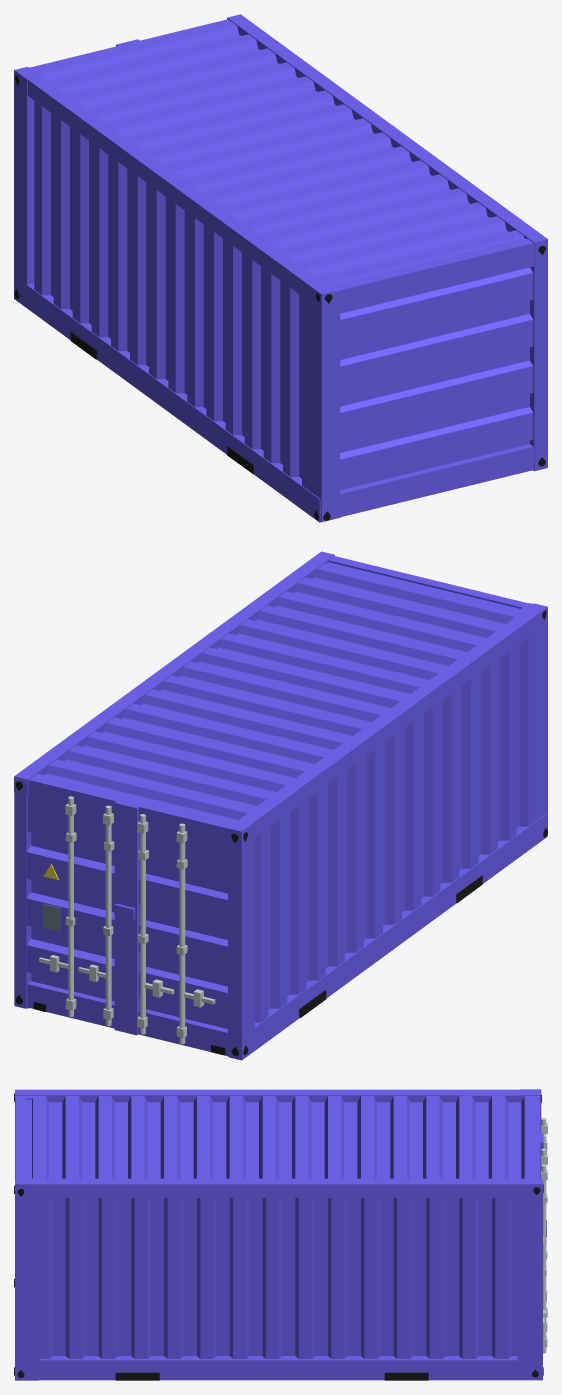
Rendered from 3Con.fbx.
3 renders of one model, top to bottom at view 1: azimuth 30°, elevation 25°; view 2: azimuth 150°, elevation 25°; view 3: azimuth 270°, elevation 25°, orthographic. The views are drawn at different scales.
Visible parts, largest first — view 1: Node; view 2: Node; view 3: Node.
Boxes of the visible parts, left/top/right/bottom form: Node: left=14, top=14, right=547, bottom=522; Node: left=14, top=551, right=547, bottom=1060; Node: left=14, top=1089, right=547, bottom=1380.
Size of the model in its own units: 134 by 128 by 316.
